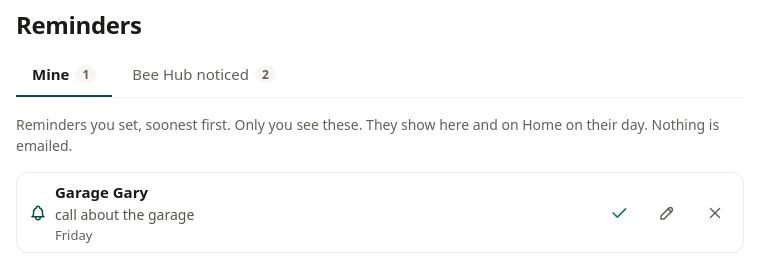
Test case: B) two tabs: Mine and Bee Hub noticed › ticking on Mine finishes the reminder and it leaves the list
The width and height of the screenshot is (761, 270).
Click the button named "Finish reminder": [619, 212] box [599,192,639,232]
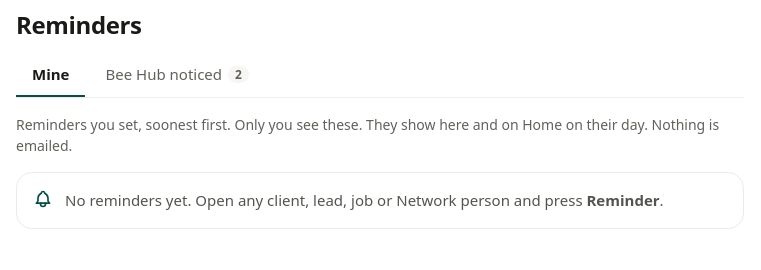
Check: no elements with test id "reminder-row" are shown
